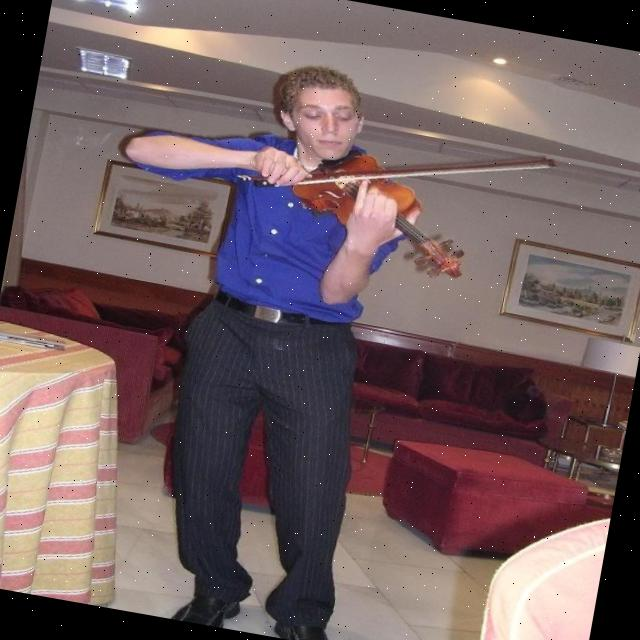violin: (274, 141, 489, 287)
